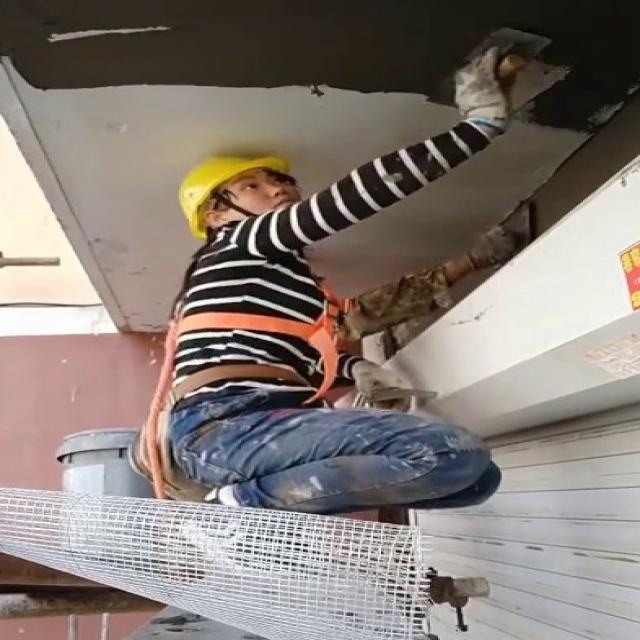Arnes_seguridad: (150, 240, 357, 391)
